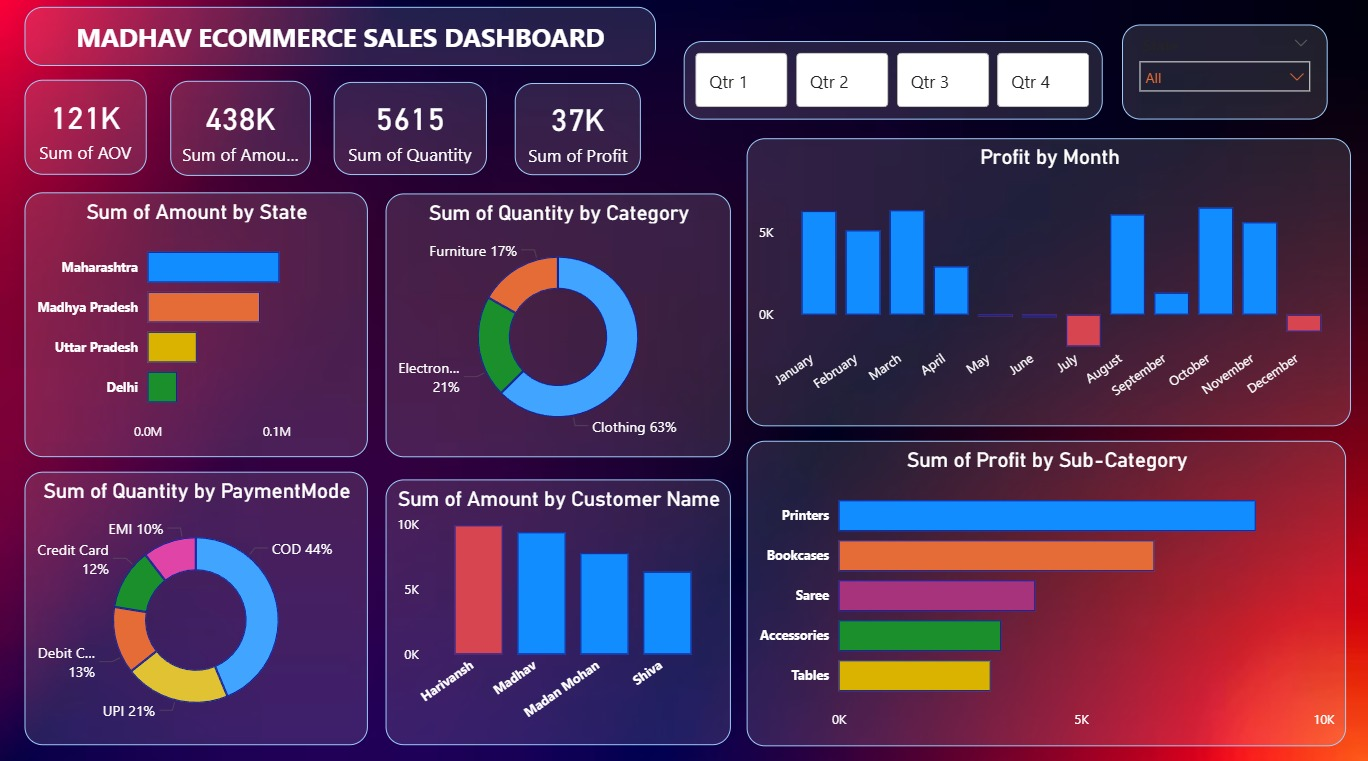

Layout of this report page (visuals, bound fields, positions):
{"tool":"powerbi","page":{"name":"Page 1","canvas":[1280,720],"ordinal":0},"visuals":[{"type":"textbox","box":[24.2,8.1,589.9,55.6],"z":0},{"type":"columnChart","title":"Profit by Month","fields":{"Category":["Orders.Order Date.Variation.Date Hierarchy.Month"],"Y":["Details.Profit"]},"box":[699,131.3,564.6,268.7],"z":1000},{"type":"barChart","fields":{"Y":["Details.Profit"],"Category":["Details.Sub-Category"]},"box":[699,413.1,559.6,284.8],"z":2000},{"type":"donutChart","fields":{"Category":["Details.Category"],"Y":["Details.Quantity"]},"box":[361.6,182.8,322.2,246.5],"z":3000},{"type":"donutChart","fields":{"Category":["Details.PaymentMode"],"Y":["Details.Quantity"]},"box":[24.2,442.4,320.2,255.6],"z":4000},{"type":"card","fields":{"Values":["Details.Profit"]},"box":[482.7,79.1,118.1,86.3],"z":4001},{"type":"card","fields":{"Values":["Details.Amount"]},"box":[161.2,77,131.4,88.3],"z":4002},{"type":"card","fields":{"Values":["Details.Quantity"]},"box":[313.2,78,142.7,87.3],"z":4003},{"type":"card","fields":{"Values":["Details.AOV"]},"box":[24.6,76,114,88.3],"z":4004},{"type":"barChart","fields":{"Y":["Details.Amount"],"Category":["Orders.State"]},"box":[24.2,181.8,320.2,247.5],"z":4005},{"type":"columnChart","fields":{"Category":["Orders.Customer Name"],"Y":["Details.Amount"]},"box":[361.6,449.5,322.2,248.5],"z":4006},{"type":"advancedSlicerVisual","fields":{"Values":["Orders.Order Date.Variation.Date Hierarchy.Quarter"]},"box":[640.4,40.4,390.9,73.7],"z":4007},{"type":"slicer","fields":{"Values":["Orders.State"]},"box":[1049.5,25.3,191.9,88.9],"z":4008}]}

Visuals, with their boxes in screenshot pixels (x1, y1, x2, y2), scaled from the page's 1280x720 canvas onto the 1368x761 screenshot:
textbox: [26,9,656,67]
"Profit by Month" columnChart: [747,139,1350,423]
barChart - Details.Profit x Details.Sub-Category: [747,437,1345,738]
donutChart - Details.Category x Details.Quantity: [386,193,731,454]
donutChart - Details.PaymentMode x Details.Quantity: [26,468,368,738]
card - Details.Profit: [516,84,642,175]
card - Details.Amount: [172,81,313,175]
card - Details.Quantity: [335,82,487,175]
card - Details.AOV: [26,80,148,174]
barChart - Details.Amount x Orders.State: [26,192,368,454]
columnChart - Orders.Customer Name x Details.Amount: [386,475,731,738]
advancedSlicerVisual - Orders.Order Date.Variation.Date Hierarchy.Quarter: [684,43,1102,121]
slicer - Orders.State: [1122,27,1327,121]
